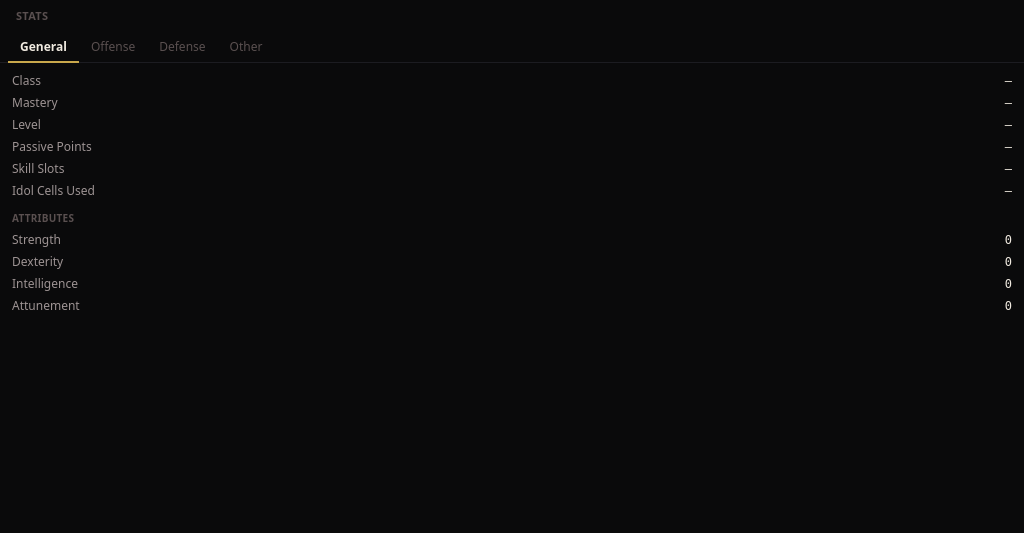
it: StatSheetPanel › renders penetration, stun, and ailment-chance rows on the Offense tab (1.6 AC1)
The image size is (1024, 533).
Step 1. Click the tab "Offense" → click(113, 48), box [79,32,147,62]
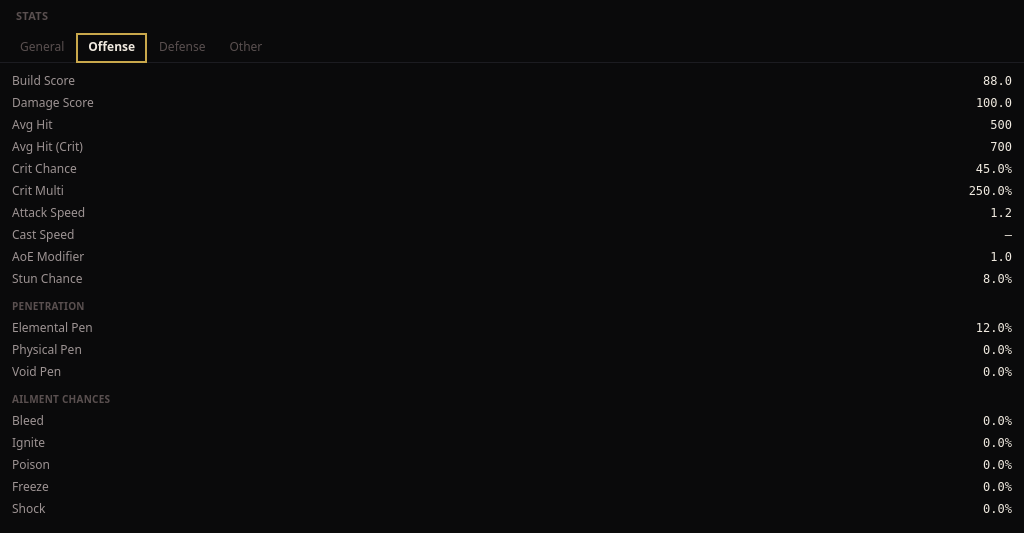
Expected: the text "Stun Chance" is shown, [12,270,83,286]
Expected: the text "Elemental Pen" is shown, [12,320,93,336]
Expected: the text "Physical Pen" is shown, [12,342,82,358]
